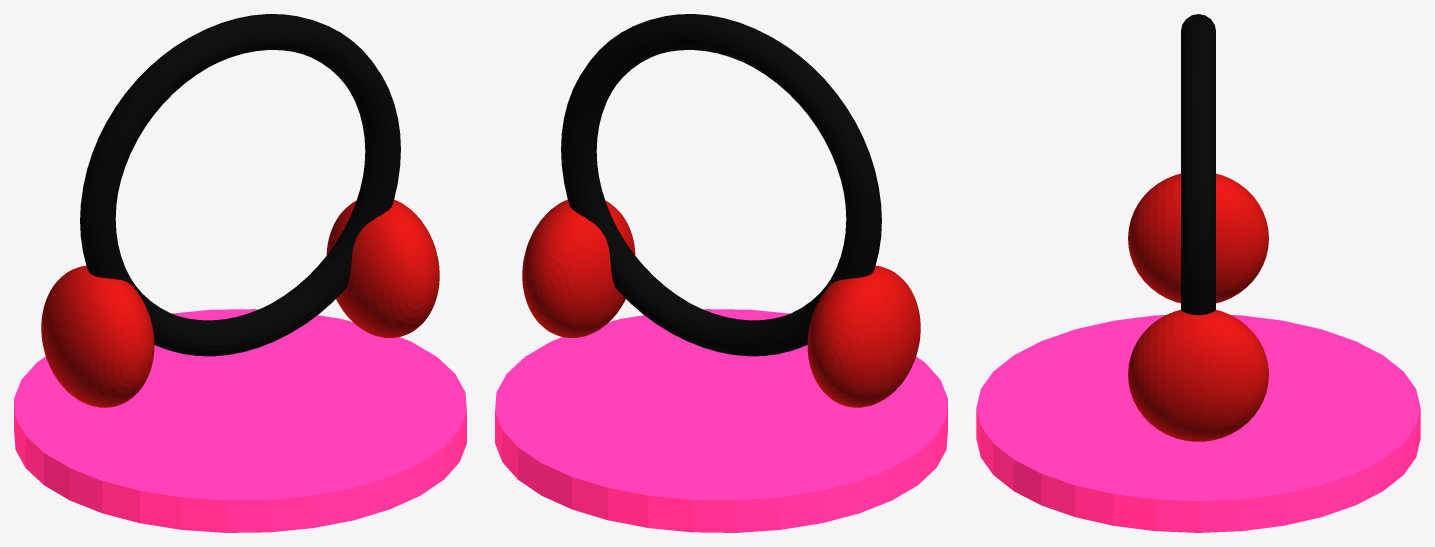
File: music_headphones.dae
3 renders of one model, left to right at view 1: azimuth 30°, elevation 25°; view 2: azimuth 150°, elevation 25°; view 3: azimuth 270°, elevation 25°, orthographic. The views are drawn at different scales.
Parts seen in each view (by area): view 1: 07_01_Popular_Music_Headphones_ROOT_base, 07_01_Popular_Music_Headphones_part_01, 07_01_Popular_Music_Headphones_part_02, 07_01_Popular_Music_Headphones_part_03; view 2: 07_01_Popular_Music_Headphones_ROOT_base, 07_01_Popular_Music_Headphones_part_01, 07_01_Popular_Music_Headphones_part_02, 07_01_Popular_Music_Headphones_part_03; view 3: 07_01_Popular_Music_Headphones_ROOT_base, 07_01_Popular_Music_Headphones_part_03, 07_01_Popular_Music_Headphones_part_01, 07_01_Popular_Music_Headphones_part_02.
Part boxes in pixels (box(x1,y1,x2,y2)): 07_01_Popular_Music_Headphones_ROOT_base: box(14, 309, 466, 532); 07_01_Popular_Music_Headphones_part_01: box(80, 14, 400, 356); 07_01_Popular_Music_Headphones_part_02: box(41, 265, 154, 407); 07_01_Popular_Music_Headphones_part_03: box(326, 199, 439, 337); 07_01_Popular_Music_Headphones_ROOT_base: box(495, 309, 947, 532); 07_01_Popular_Music_Headphones_part_01: box(561, 14, 881, 356); 07_01_Popular_Music_Headphones_part_02: box(807, 265, 920, 407); 07_01_Popular_Music_Headphones_part_03: box(522, 199, 635, 337); 07_01_Popular_Music_Headphones_ROOT_base: box(976, 315, 1420, 532); 07_01_Popular_Music_Headphones_part_03: box(1128, 310, 1268, 441); 07_01_Popular_Music_Headphones_part_01: box(1181, 14, 1215, 315); 07_01_Popular_Music_Headphones_part_02: box(1128, 173, 1268, 303).
Bounding box in the file's own units: 0.76 × 0.7717 × 0.76.
